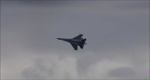maybay_muctieu: (55, 31, 88, 51)
